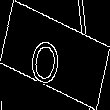O_N: (36, 24, 74, 86)
